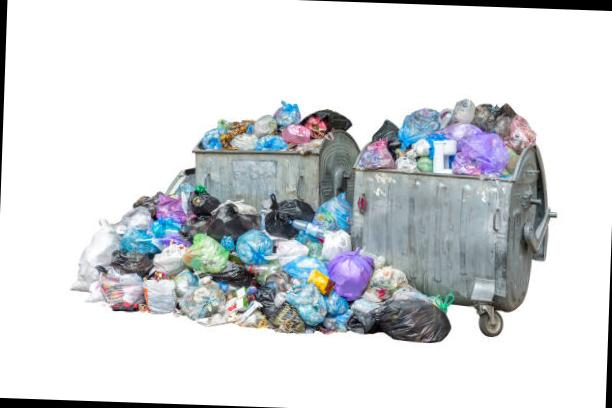trash: (73, 182, 460, 347), (350, 98, 540, 188), (193, 96, 340, 158)
trash_can_overflow: (346, 88, 568, 352), (177, 70, 350, 332)
